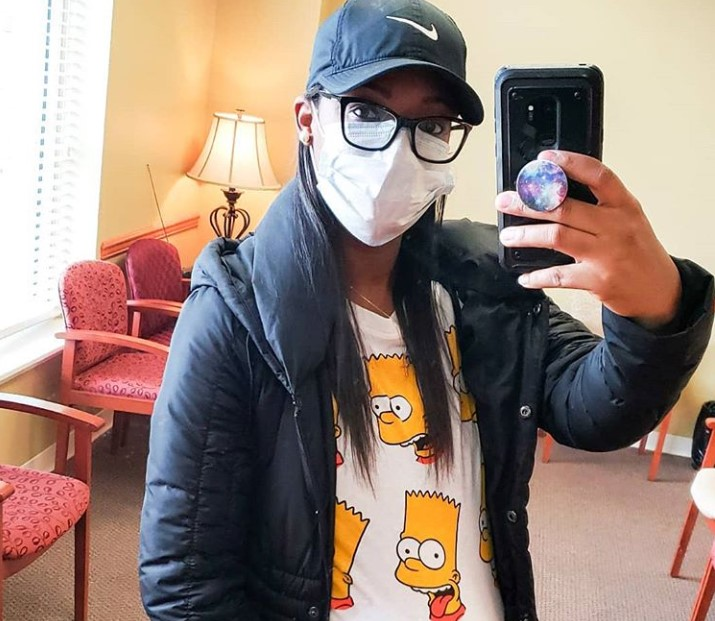face_with_mask: (290, 7, 485, 246)
